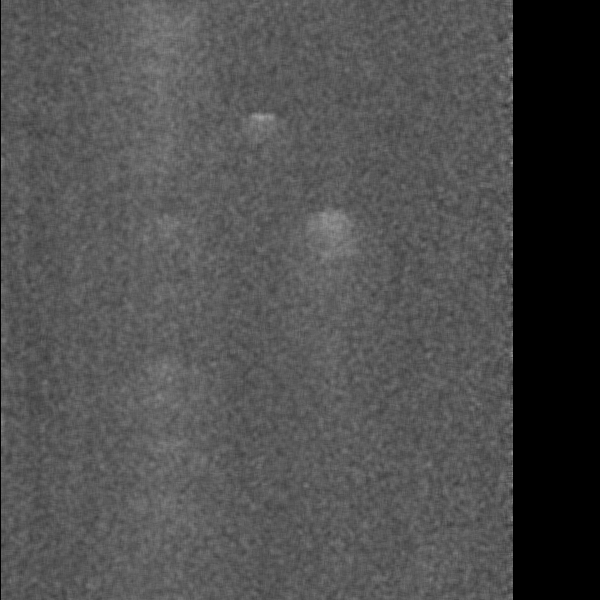spark: (311, 201, 360, 309), (143, 28, 169, 130), (134, 15, 193, 55), (238, 106, 280, 145), (158, 212, 193, 247)
